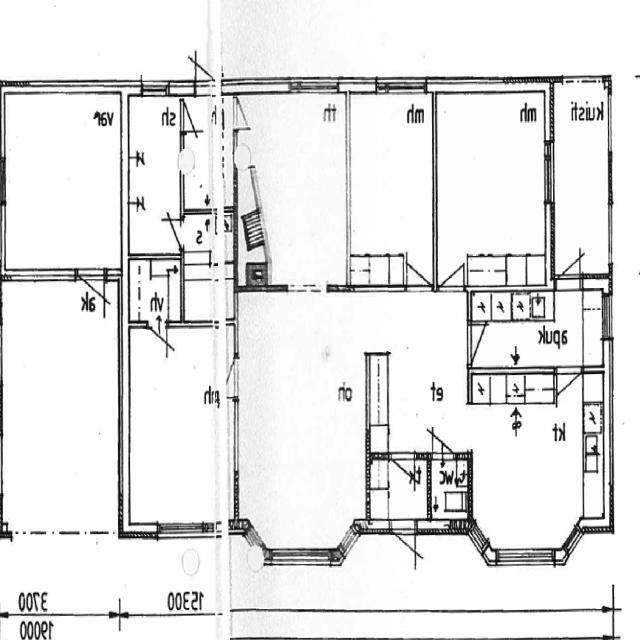door: (79, 268, 105, 322), (208, 357, 239, 398), (557, 237, 580, 290), (392, 519, 415, 571), (406, 246, 431, 291), (391, 452, 415, 498), (440, 245, 464, 291), (196, 46, 219, 94), (433, 420, 453, 459), (180, 100, 204, 132), (234, 98, 259, 128), (161, 219, 184, 249)
